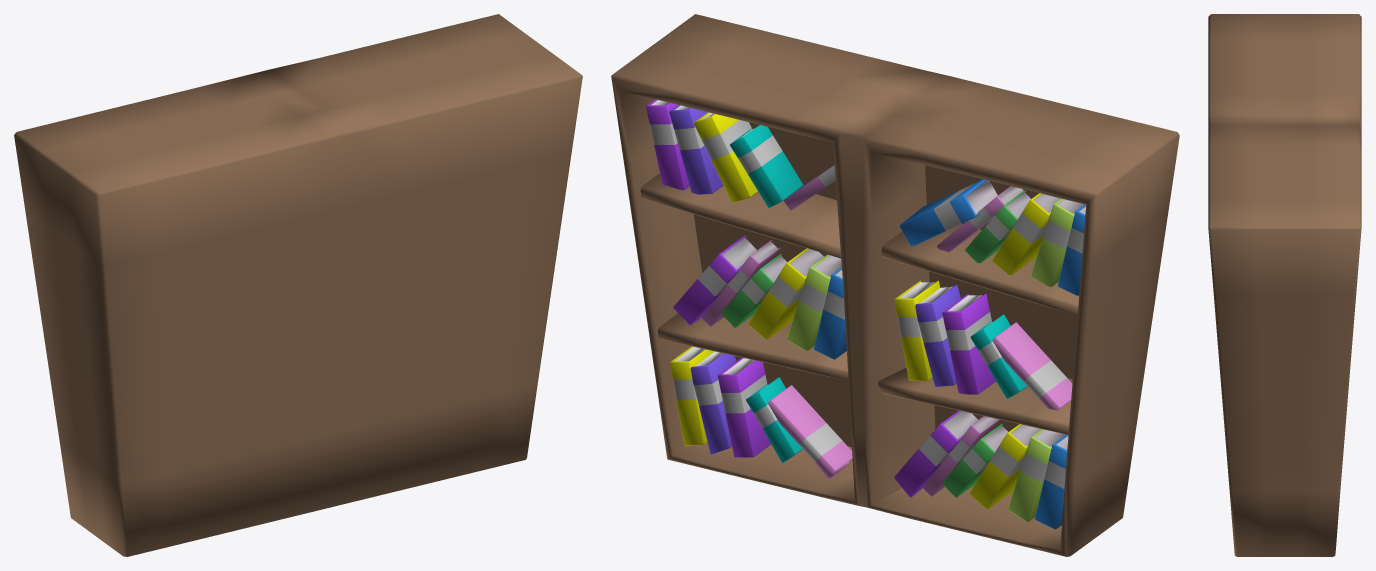
Rendered from props_library_large.fbx.
3 renders of one model, left to right at view 1: azimuth 30°, elevation 25°; view 2: azimuth 150°, elevation 25°; view 3: azimuth 270°, elevation 25°, orthographic. The views are drawn at different scales.
Parts seen in each view (by area): view 1: Library.038; view 2: Library.038; view 3: Library.038.
Boxes of the visible parts, x1=… form: Library.038: x1=14, y1=14, x2=582, y2=556; Library.038: x1=611, y1=14, x2=1179, y2=556; Library.038: x1=1208, y1=14, x2=1361, y2=556.
Size of the model in its own units: 3.79 by 1.14 by 2.87.
